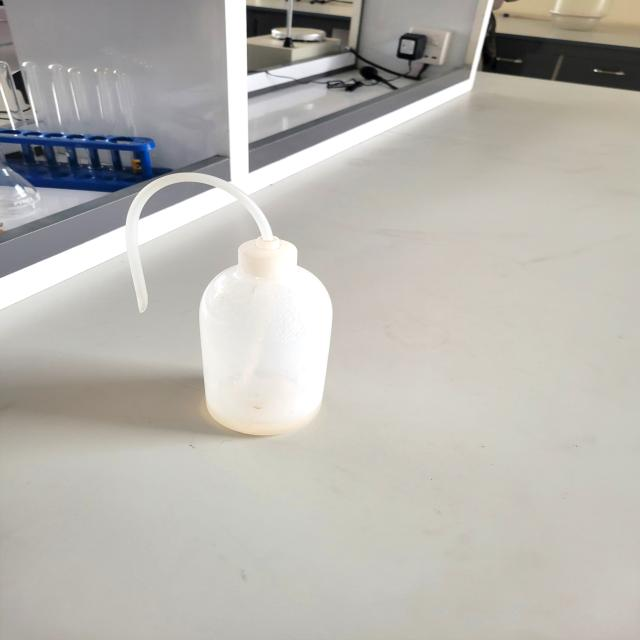Wash_Bottle: (109, 167, 345, 453)
